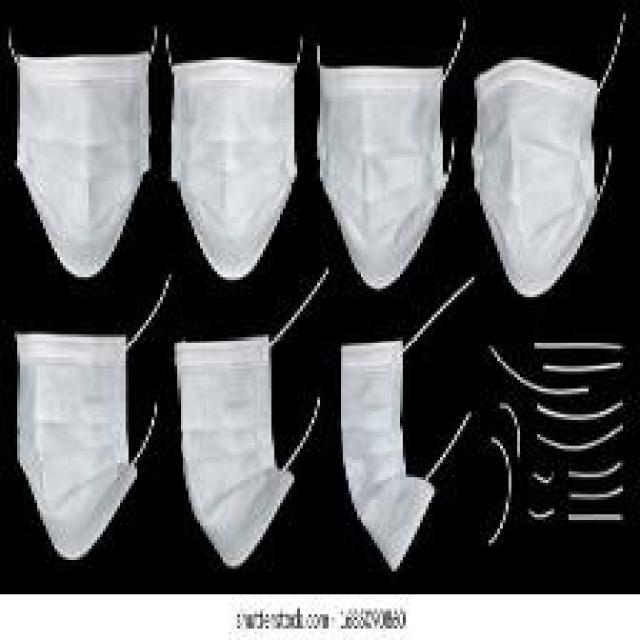Mask: (300, 24, 454, 292), (3, 39, 161, 286), (464, 44, 612, 302), (164, 322, 310, 560), (13, 316, 154, 555), (154, 58, 296, 280), (327, 319, 468, 539)
